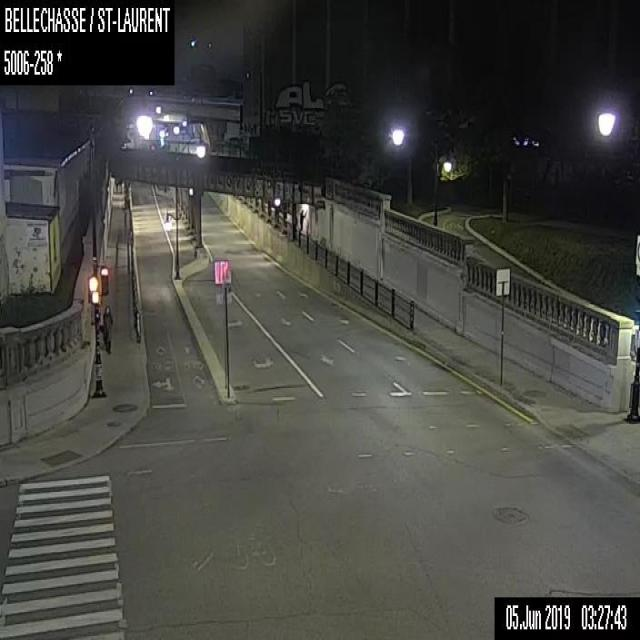pedestrian: (101, 304, 112, 352), (299, 208, 306, 230)
